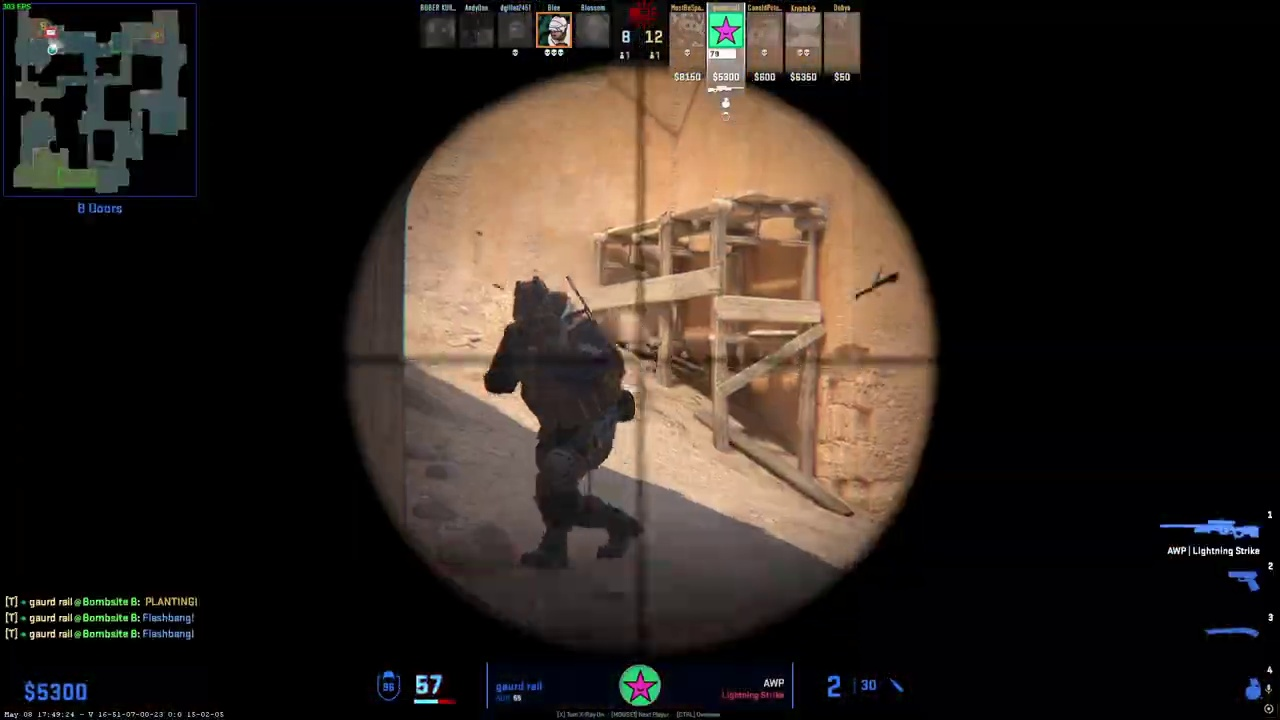CT: (498, 278, 641, 569)
